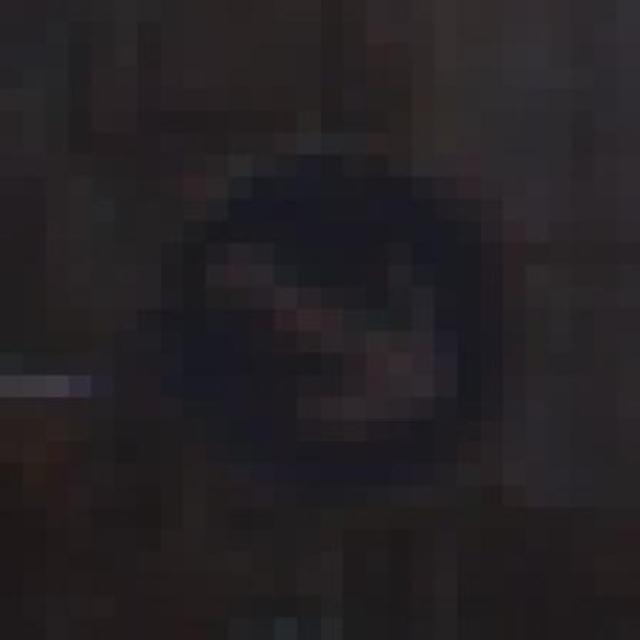Keep-Right: (137, 132, 526, 508)
